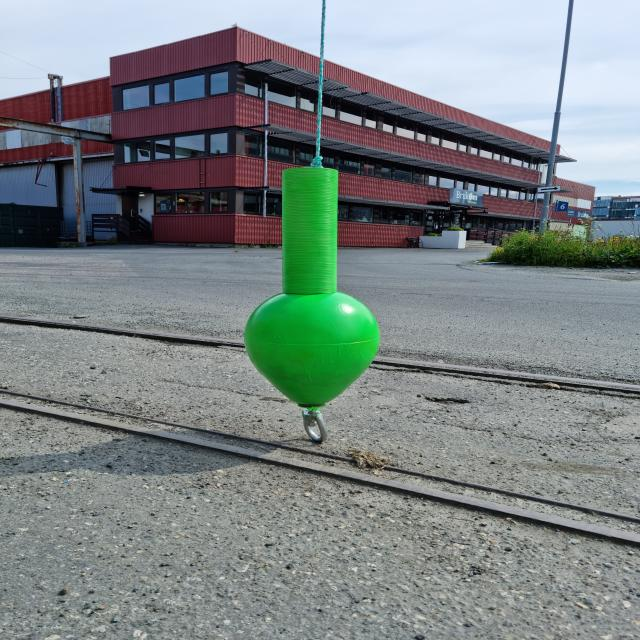green: (246, 168, 382, 407)
